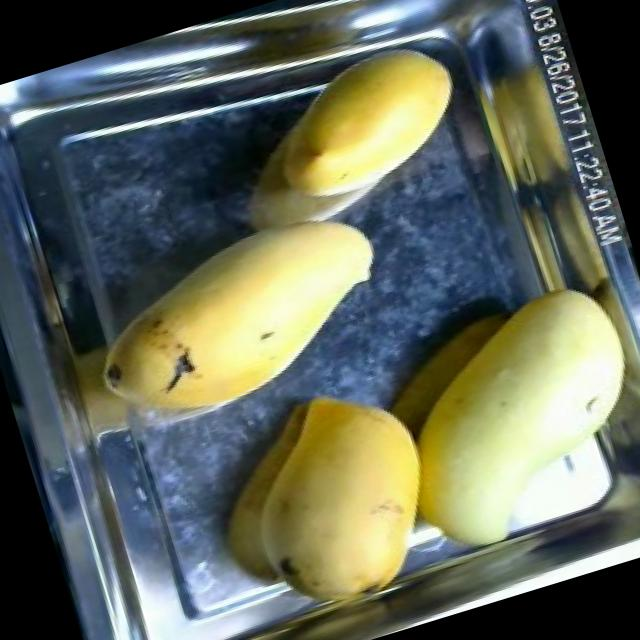fruit: (360, 263, 640, 566), (183, 356, 467, 637), (126, 181, 416, 426), (235, 26, 493, 225), (468, 36, 593, 210)
